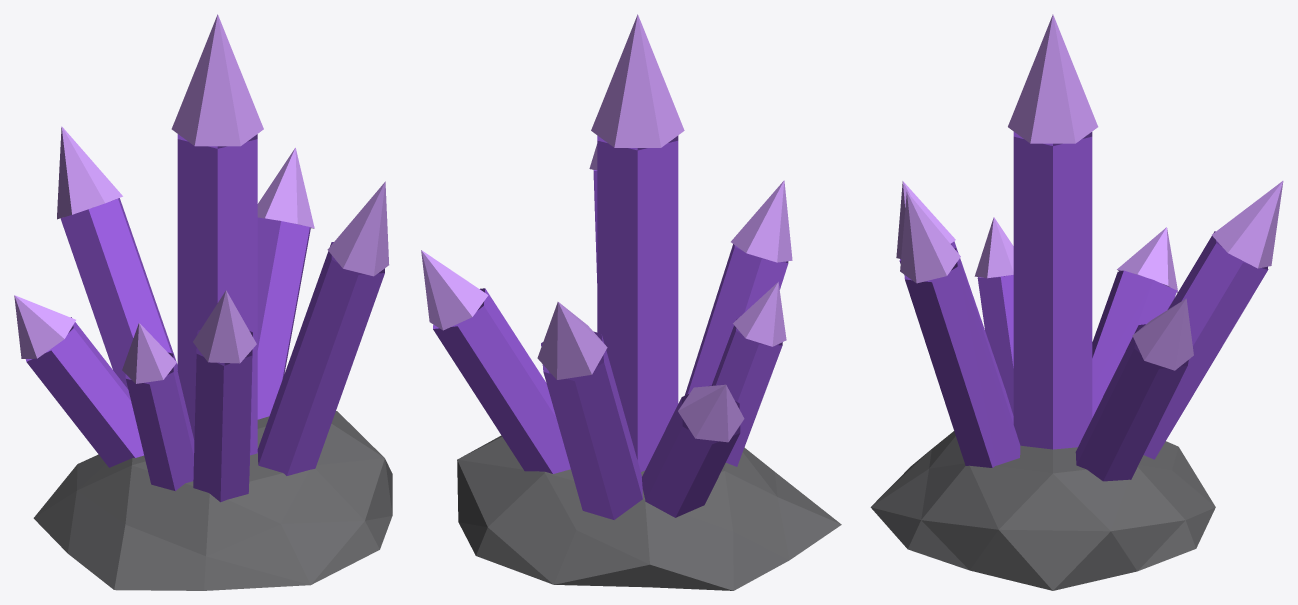
The model's file is crystals_b.obj.
3 views of the same model, side by side, from view 1: azimuth 30°, elevation 25°; view 2: azimuth 150°, elevation 25°; view 3: azimuth 270°, elevation 25° (orthographic). The views are drawn at different scales.
Bounding box in the file's own units: 0.8178 × 1.2 × 0.9107.
